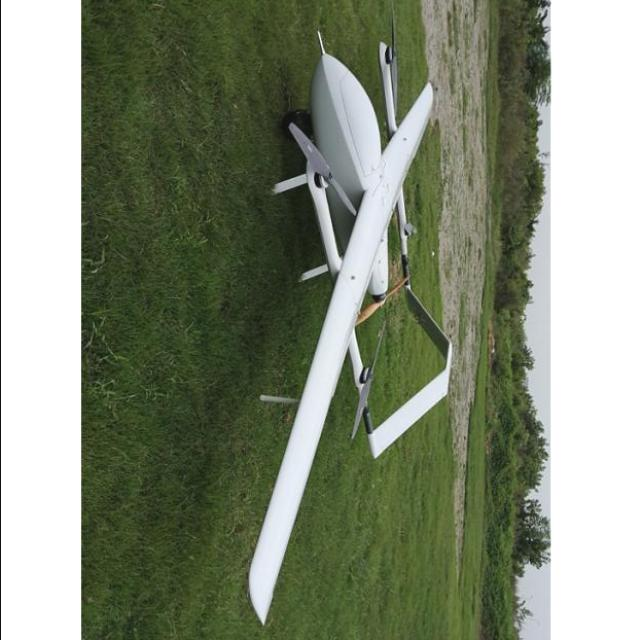plane: (245, 0, 454, 628)
